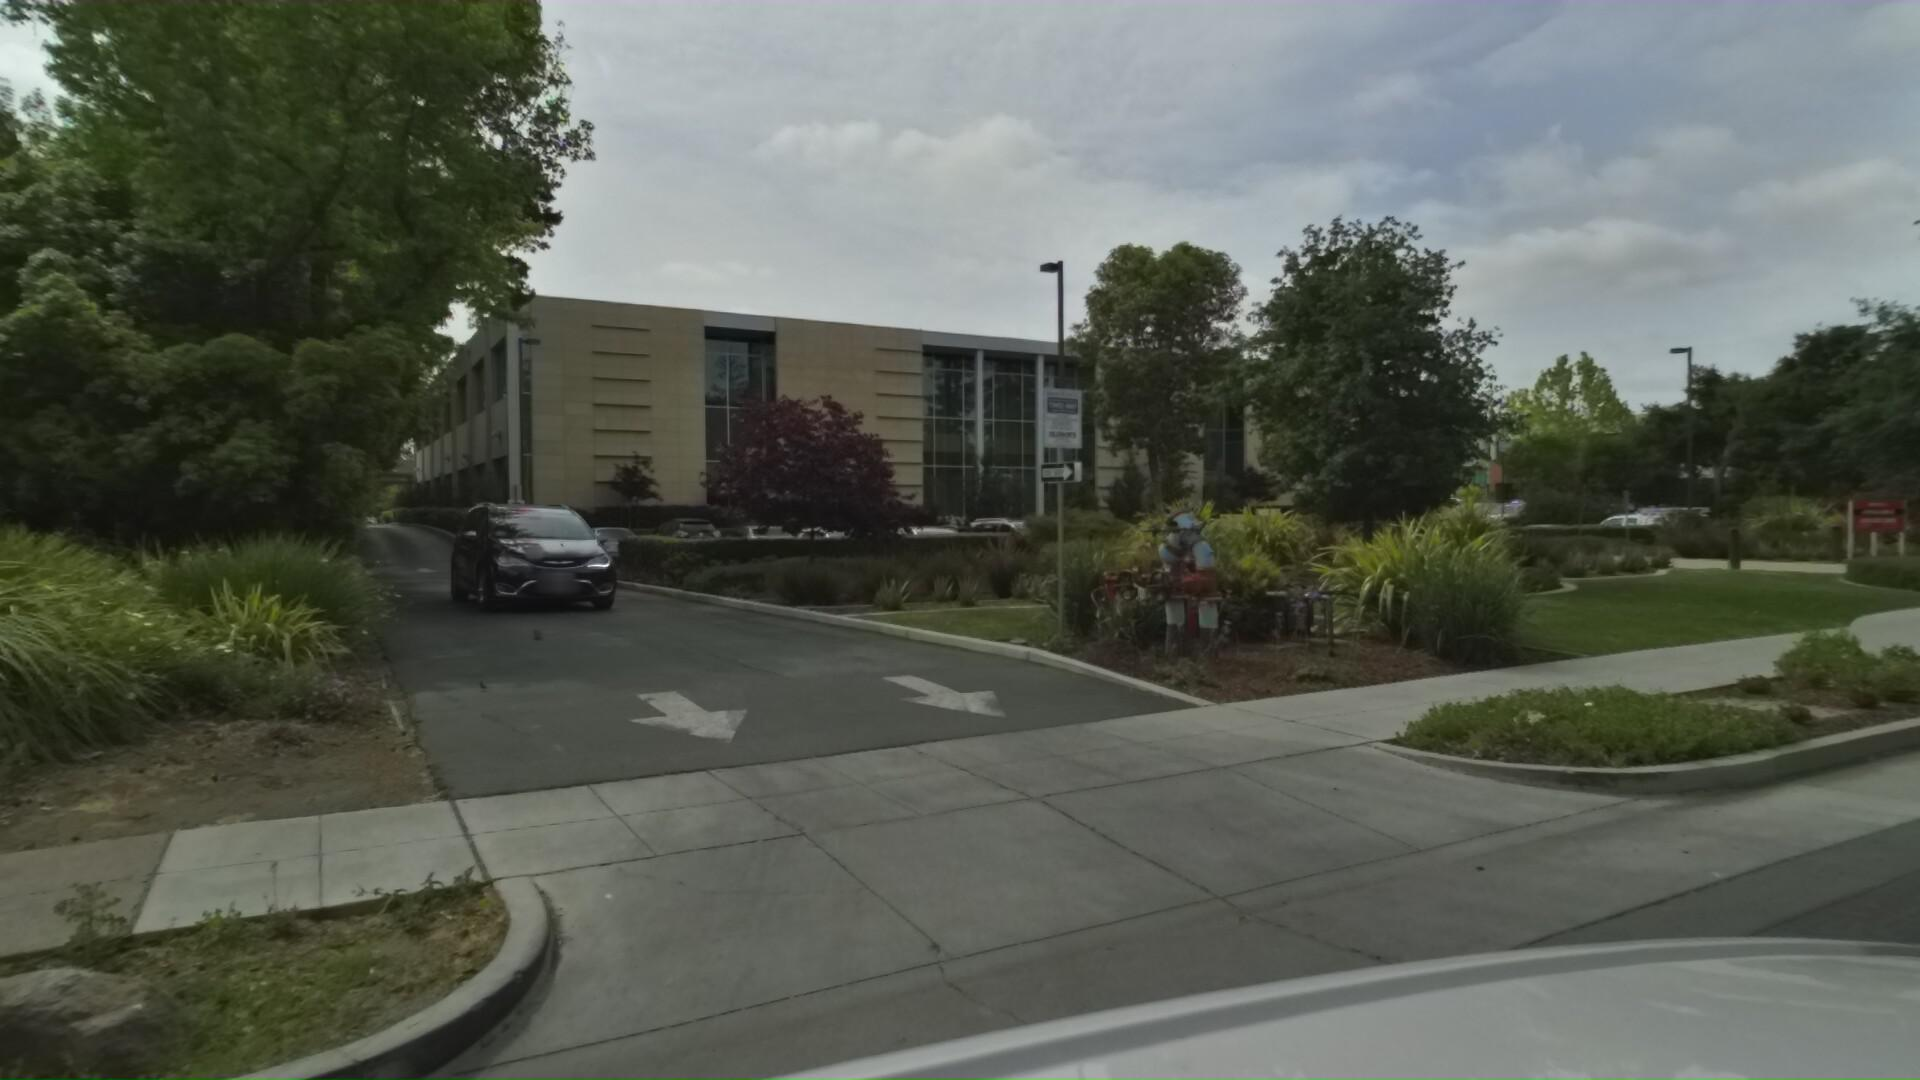car: (477, 495, 659, 613)
